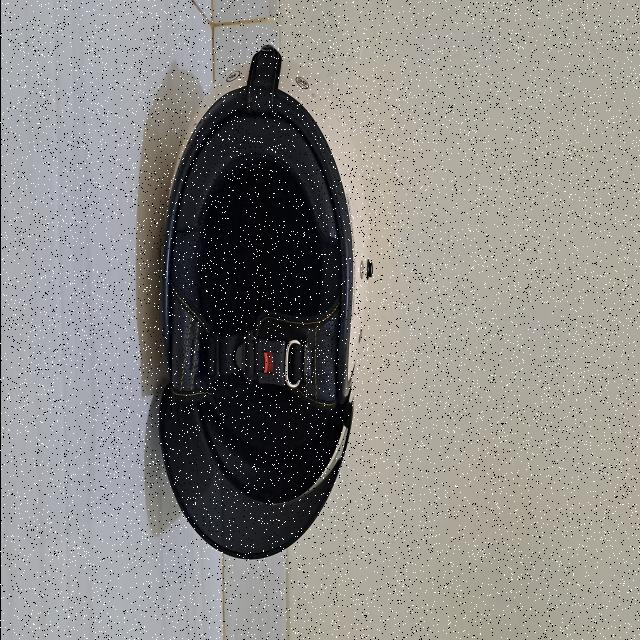Helmet: (156, 45, 370, 560)
